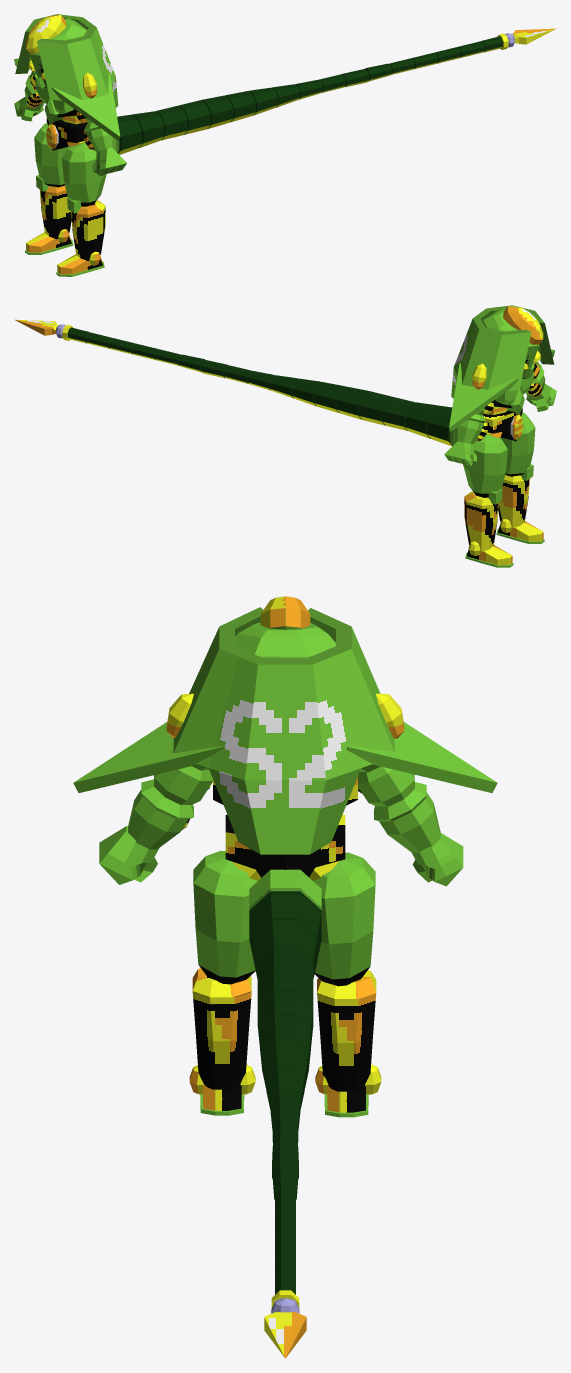
File: Echoes2.glb
3 views of the same model, one above another, from view 1: azimuth 30°, elevation 25°; view 2: azimuth 150°, elevation 25°; view 3: azimuth 270°, elevation 25° (orthographic). The views are drawn at different scales.
Parts seen in each view (by area): view 1: cylinder (×14), Perna Cima E, Perna Baixo E, Perna Baixo D, Perna Cima D, group17, Mão E, Pé D, Pé E, Braço Baixo E, Mão D, Braço Baixo D; view 2: cylinder (×14), Perna Cima D, Perna Baixo D, Perna Baixo E, Perna Cima E, group17, Braço Baixo D, Pé D, Pé E, Mão D, Mão E; view 3: cylinder (×12), Perna Cima E, Perna Cima D, Perna Baixo E, Perna Baixo D, Braço Baixo D, Braço Baixo E, Mão E, group17, Braço Cima D, Mão D, Braço Cima E (+2 smaller).
Part boxes in pixels (<box>): cylinder (×14): <box>14,14,369,154</box>; Perna Cima E: <box>62,142,106,206</box>; Perna Baixo E: <box>67,197,105,265</box>; Perna Baixo D: <box>36,175,71,242</box>; Perna Cima D: <box>34,123,68,187</box>; group17: <box>481,28,556,52</box>; Mão E: <box>92,147,126,175</box>; Pé D: <box>25,232,73,254</box>; Pé E: <box>56,254,104,276</box>; Braço Baixo E: <box>83,123,115,152</box>; Mão D: <box>14,97,43,121</box>; Braço Baixo D: <box>24,75,44,107</box>; cylinder (×14): <box>201,305,554,446</box>; Perna Cima D: <box>463,434,507,497</box>; Perna Baixo D: <box>464,488,502,555</box>; Perna Baixo E: <box>498,464,533,532</box>; Perna Cima E: <box>500,412,535,476</box>; group17: <box>14,319,89,343</box>; Braço Baixo D: <box>455,414,487,444</box>; Pé D: <box>465,545,513,567</box>; Pé E: <box>496,521,544,543</box>; Mão D: <box>444,441,477,466</box>; Mão E: <box>526,383,556,411</box>; cylinder (×12): <box>73,596,497,1110</box>; Perna Cima E: <box>193,850,257,984</box>; Perna Cima D: <box>313,852,375,986</box>; Perna Baixo E: <box>189,968,255,1094</box>; Perna Baixo D: <box>315,970,381,1094</box>; Braço Baixo D: <box>374,782,440,852</box>; Braço Baixo E: <box>128,779,193,849</box>; Mão E: <box>99,826,159,884</box>; group17: <box>264,1276,306,1358</box>; Braço Cima D: <box>358,764,414,806</box>; Mão D: <box>412,833,463,886</box>; Braço Cima E: <box>154,764,212,804</box>.
Size of the model in its own units: 10.04 by 4.45 by 3.49.
Materials: 6 (6 with a texture image).
